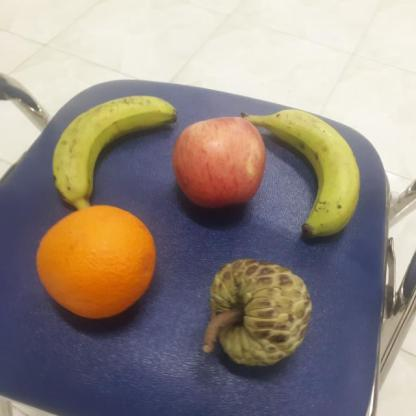annona: (209, 256, 311, 366)
apple: (172, 116, 265, 207)
banana: (51, 96, 176, 202), (265, 108, 360, 238)
orange: (35, 205, 155, 320)
